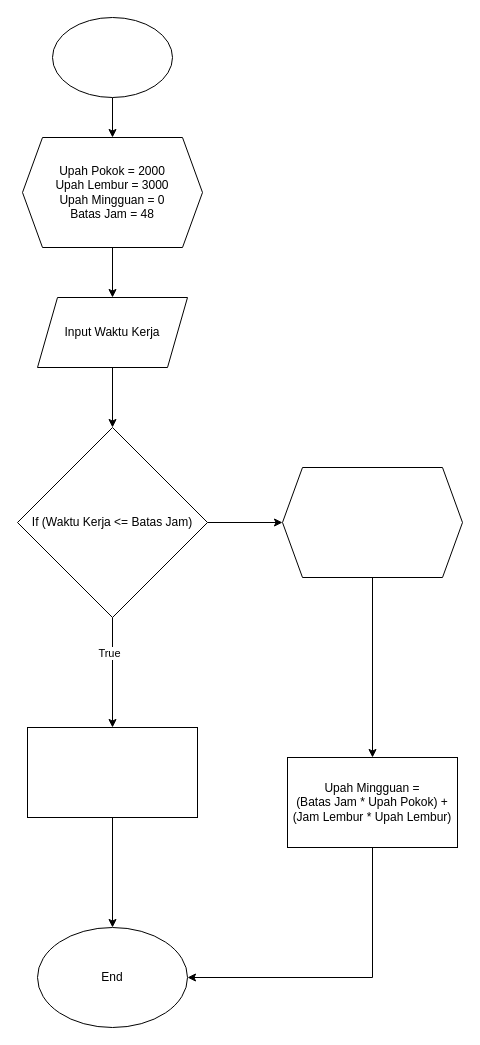
Some shapes in this 480 by 1045 pixel diagram are drawn without their labels. Each missing label, with the centre of its shape:
Start: [112,57]
Upah Mingguan = Waktu Kerja * Upah Pokok: [112,772]
Waktu Lembur = Waktu Kerja - Batas Jam: [372,522]
